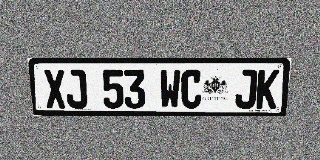3: (124, 70, 145, 108)
5: (102, 70, 124, 108)
C: (181, 70, 202, 109)
J: (234, 70, 258, 109), (65, 70, 88, 108)
K: (256, 70, 279, 109)
W: (160, 70, 181, 108)
X: (43, 70, 67, 108)
